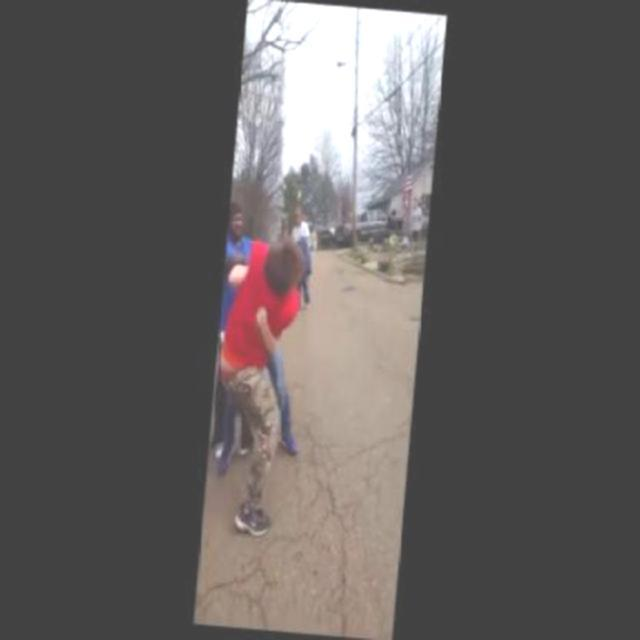fight: (221, 228, 310, 540)
